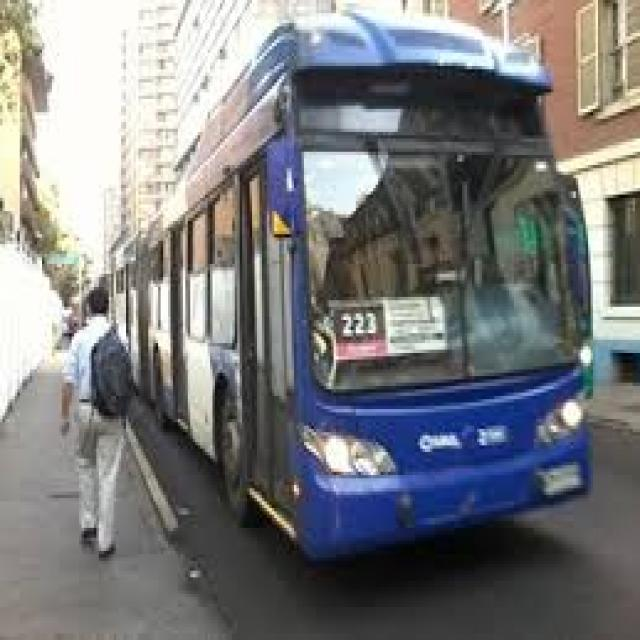AB: (99, 7, 605, 577)
